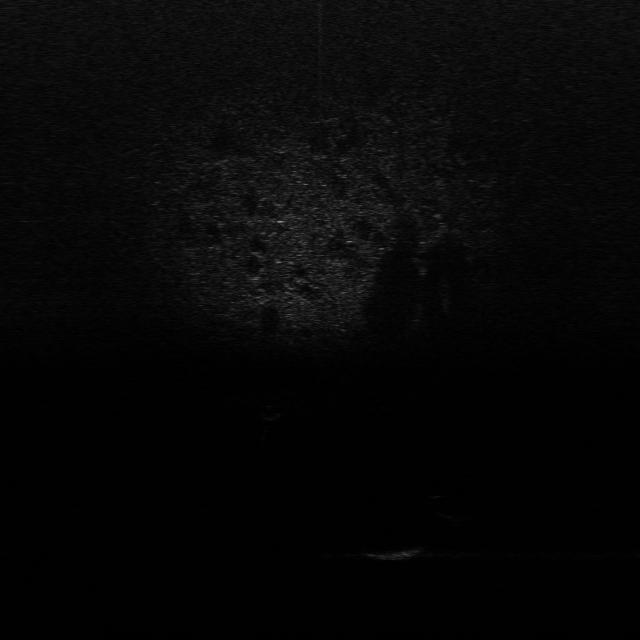ball: (256, 403, 283, 423)
metal bucket: (364, 540, 428, 562)
tyre: (424, 489, 482, 522)
